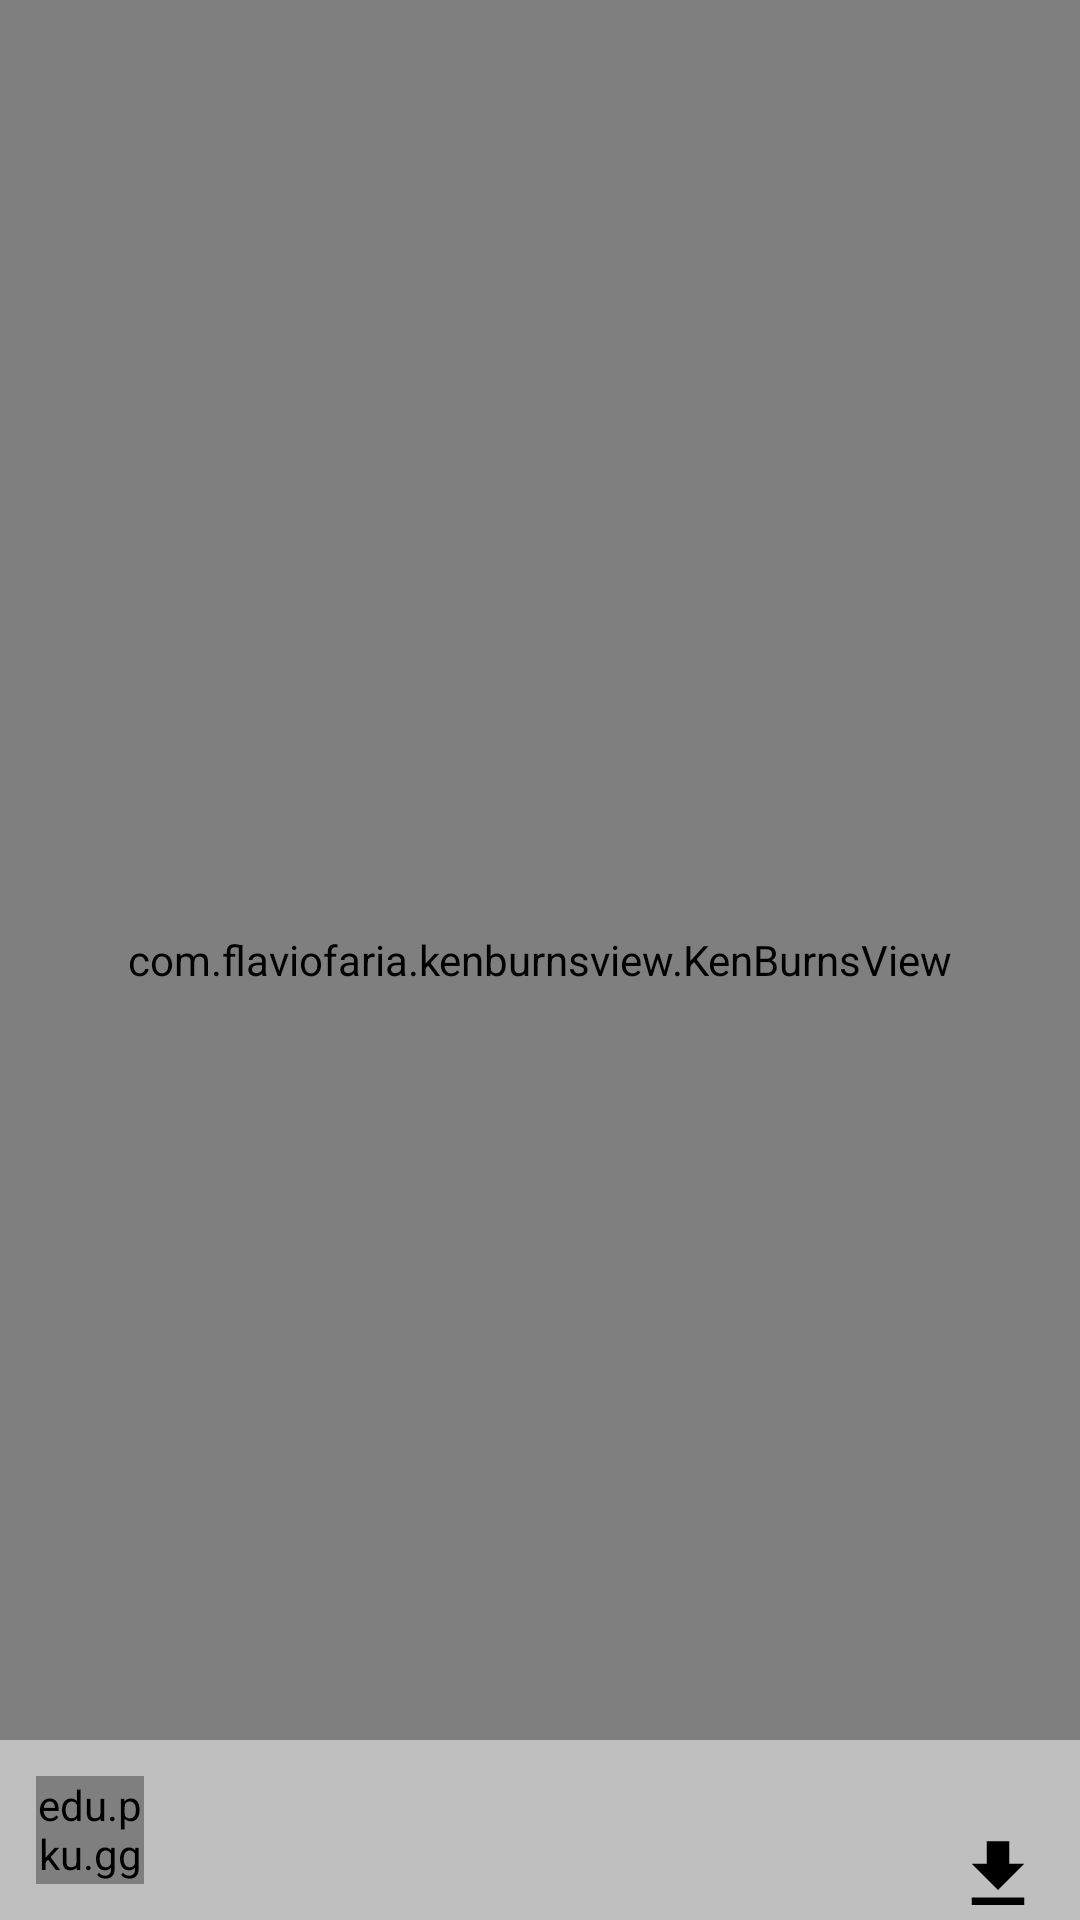

Named icons in this screenshot (1080*1920) and their bounding boxes, (x1, y1, x2, y2):
download: (971, 1841, 1025, 1905)
